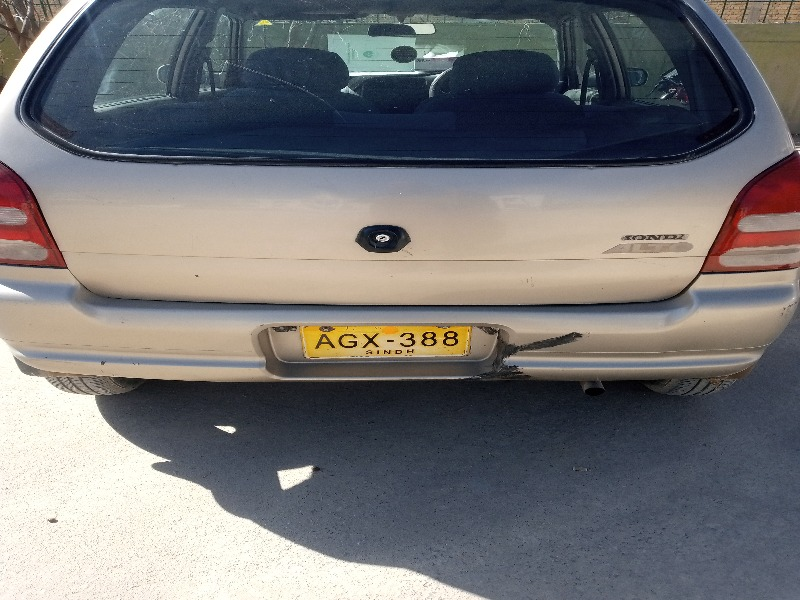License Plate: (299, 320, 474, 363)
